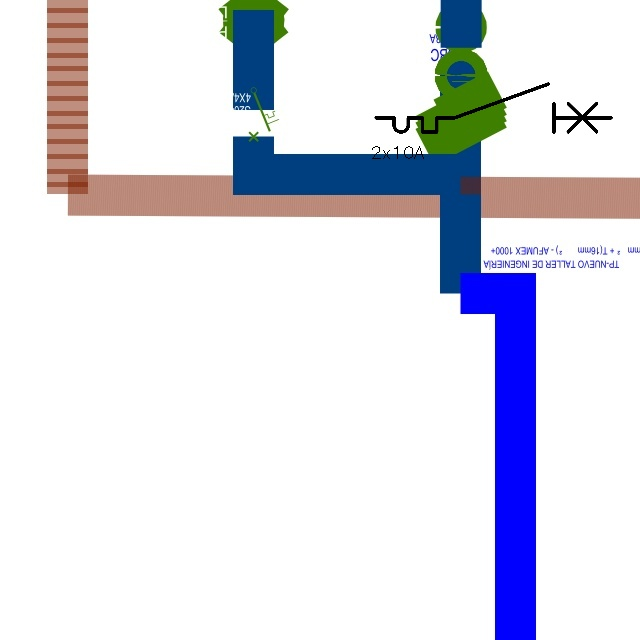interruptor_termomagnetico: (370, 78, 617, 138)
